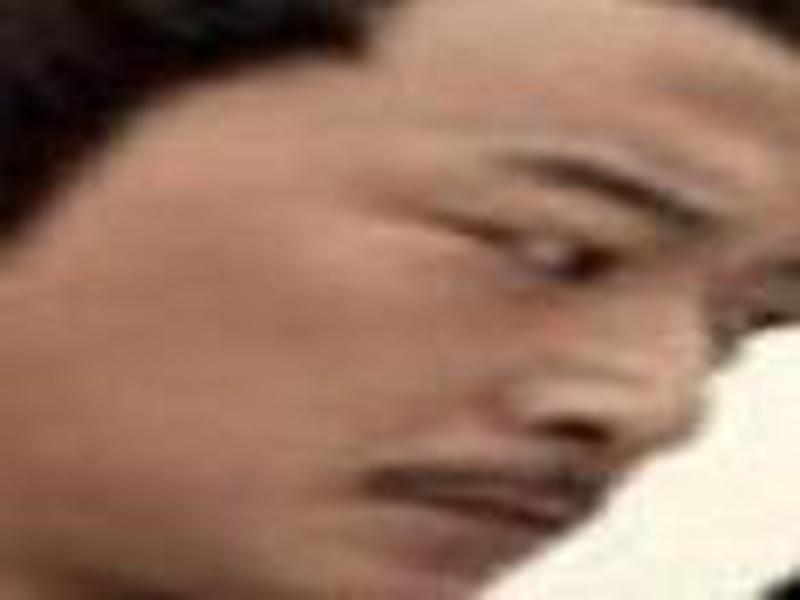without_mask: (11, 14, 800, 600)
